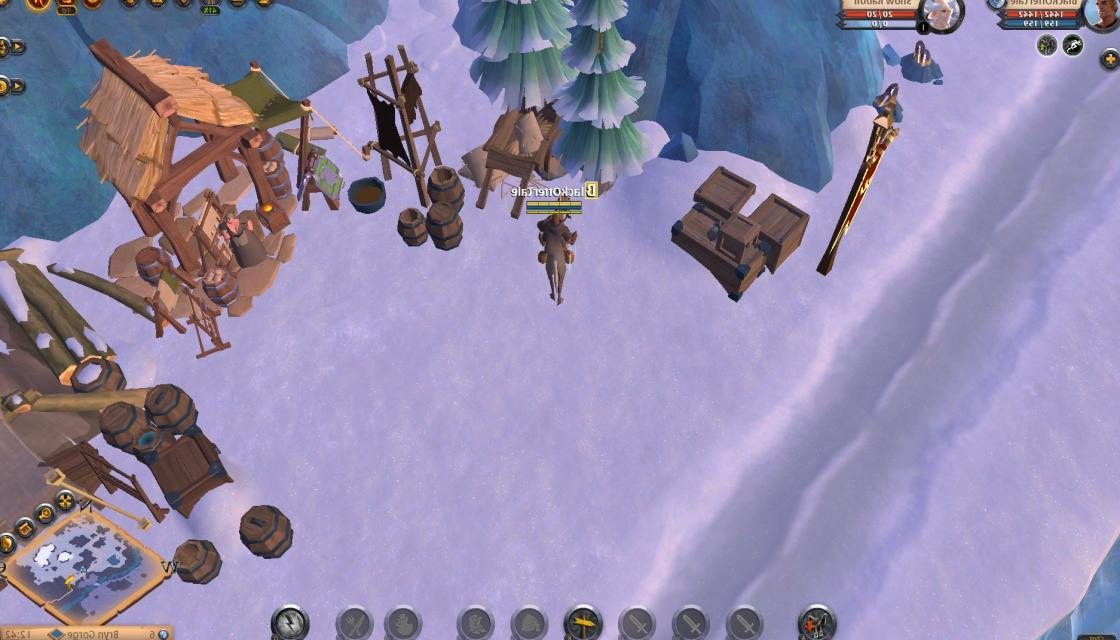copperore: (902, 38, 947, 88)
